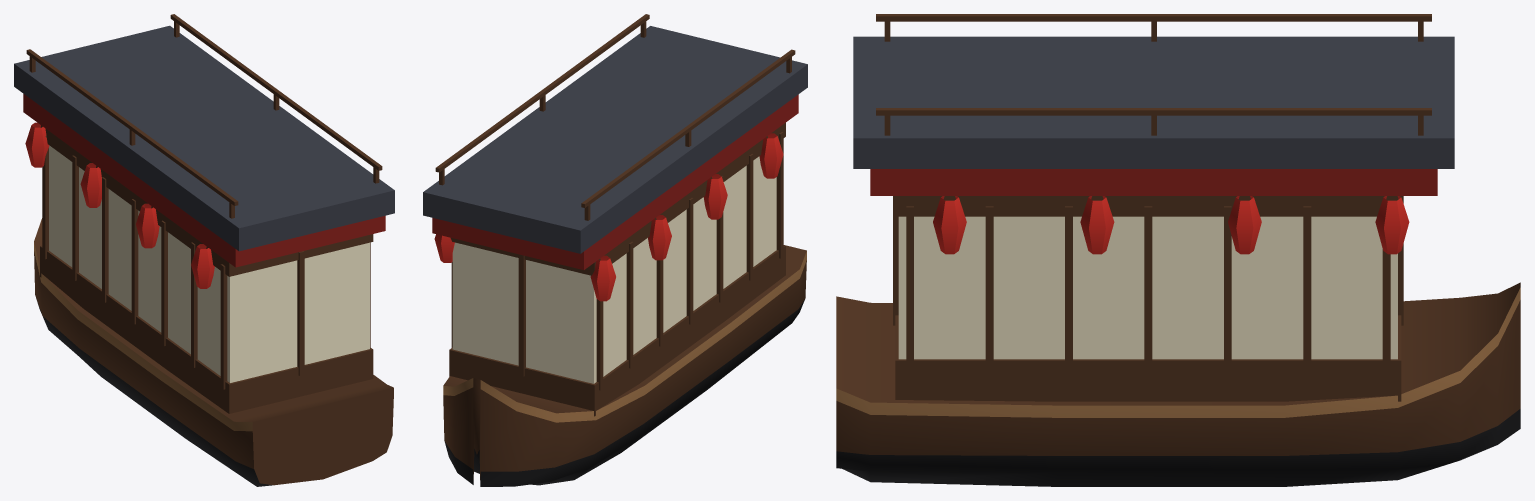
The model's file is Yakatabune.fbx.
3 renders of one model, left to right at view 1: azimuth 30°, elevation 25°; view 2: azimuth 150°, elevation 25°; view 3: azimuth 270°, elevation 25°, orthographic. The views are drawn at different scales.
Visible parts, largest first — view 1: Yakatabune; view 2: Yakatabune; view 3: Yakatabune.
Part boxes in pixels (bbox=[...]): Yakatabune: bbox=[14, 14, 394, 486]; Yakatabune: bbox=[423, 14, 807, 486]; Yakatabune: bbox=[836, 14, 1520, 486].
Bounding box in the file's own units: 2.36 × 3.86 × 6.03.
